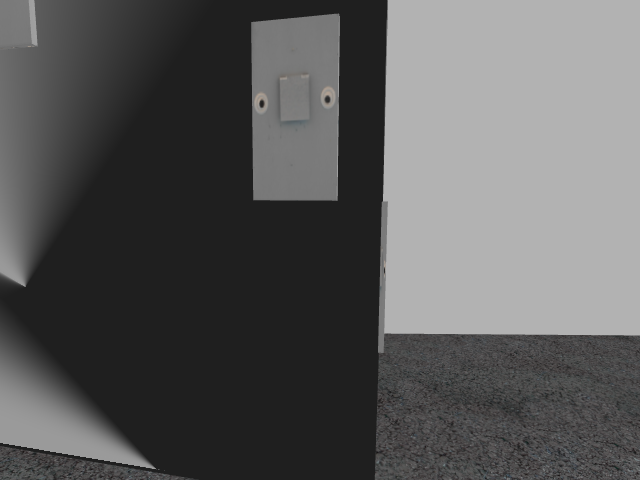facade: (254, 74, 335, 121)
